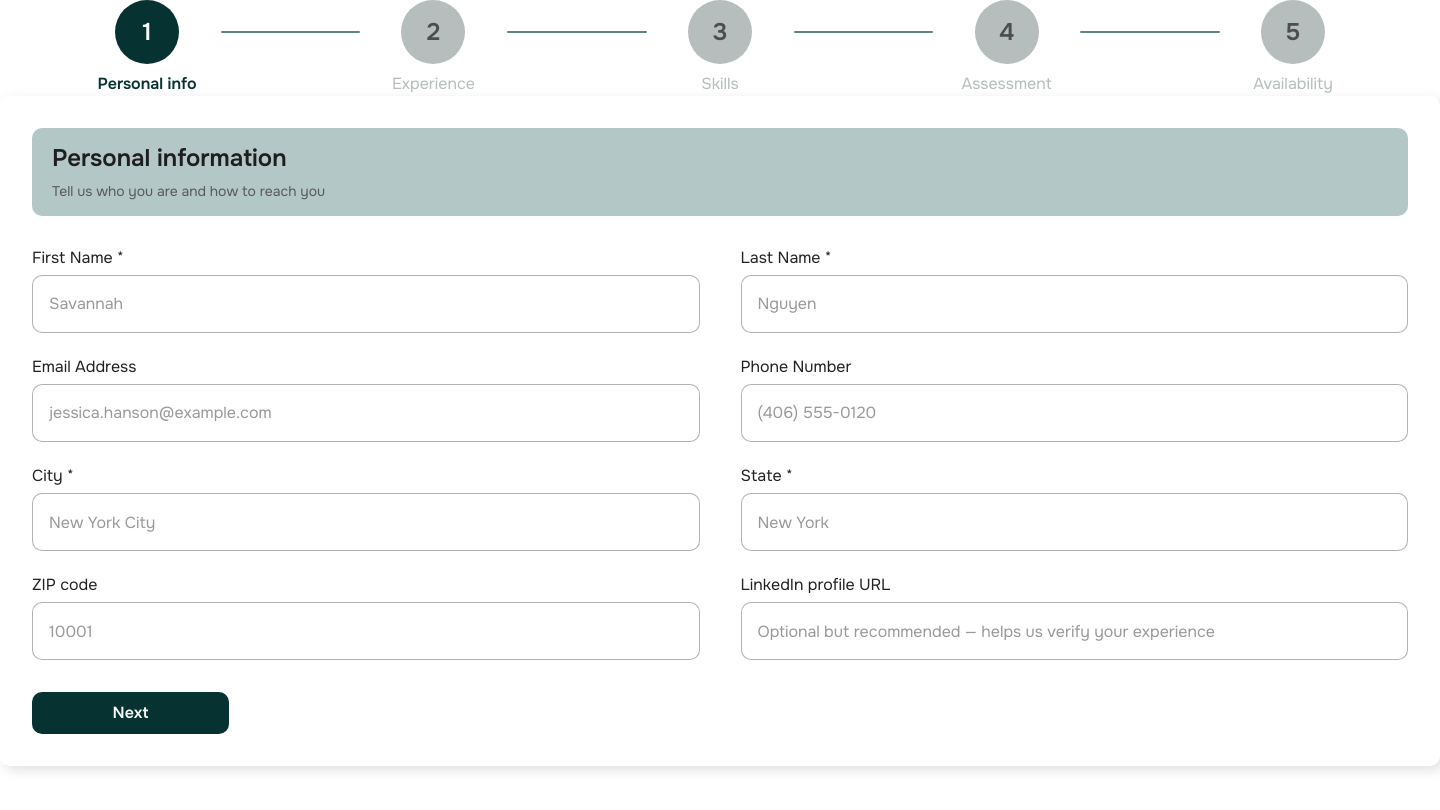
it: blocks Next on step 1 until required fields are valid
The width and height of the screenshot is (1440, 810).
Click the button "Next": [130, 713] box 32,692 -> 229,734
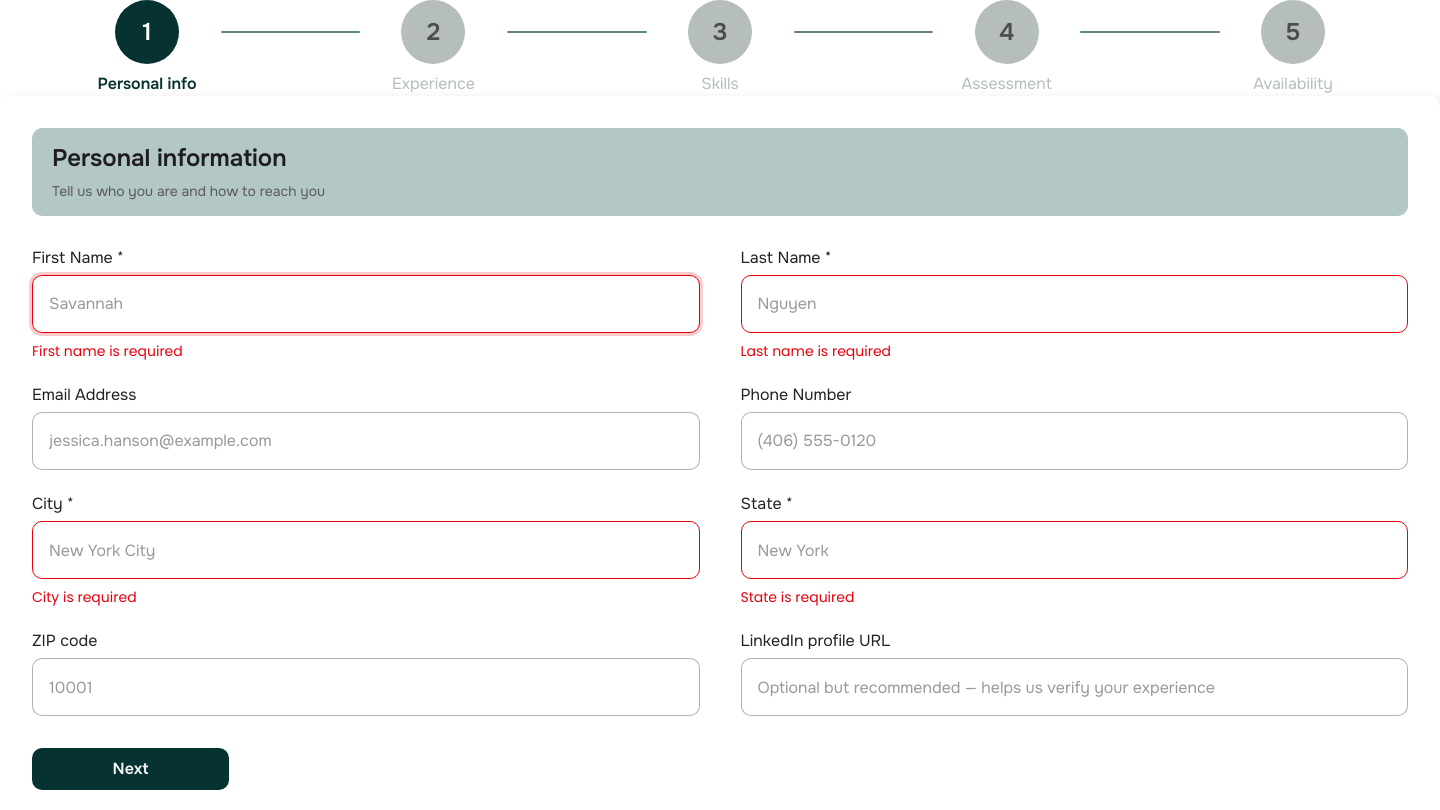
Expected: the heading "Personal information" is shown, 52,143 -> 287,173
Expected: the text "City is required" is shown, 32,587 -> 137,607
